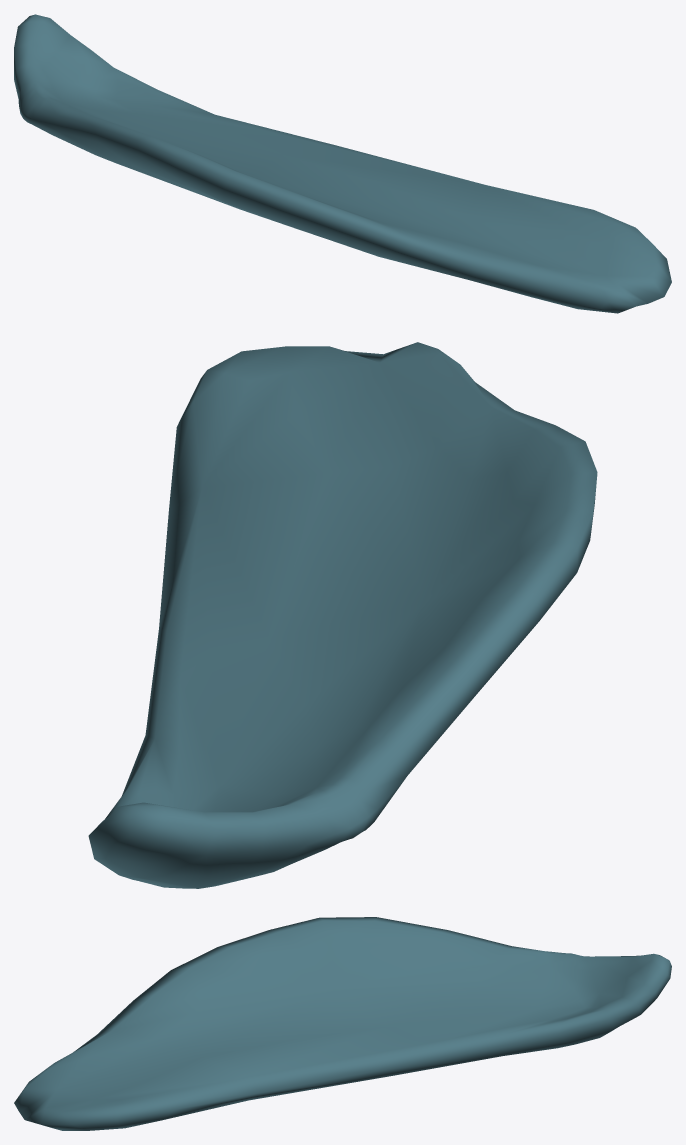
Rendered from Long_plantar_ligament_2nd_metatarsal_base_left.glb.
The picture shows the model from 3 angles, top to bottom: view 1: azimuth 30°, elevation 25°; view 2: azimuth 150°, elevation 25°; view 3: azimuth 270°, elevation 25°; orthographic projection. The views are drawn at different scales.
Visible parts, largest first — view 1: Long_plantar_ligament_on_2d_metatarsal_base.l_Generated_Mesh; view 2: Long_plantar_ligament_on_2d_metatarsal_base.l_Generated_Mesh; view 3: Long_plantar_ligament_on_2d_metatarsal_base.l_Generated_Mesh.
Boxes of the visible parts, box(x1,y1,x2,y2) form: Long_plantar_ligament_on_2d_metatarsal_base.l_Generated_Mesh: box(14, 14, 671, 313); Long_plantar_ligament_on_2d_metatarsal_base.l_Generated_Mesh: box(88, 342, 597, 888); Long_plantar_ligament_on_2d_metatarsal_base.l_Generated_Mesh: box(14, 917, 671, 1130).
Bounding box in the file's own units: 0.00585 × 0.00163 × 0.011.
